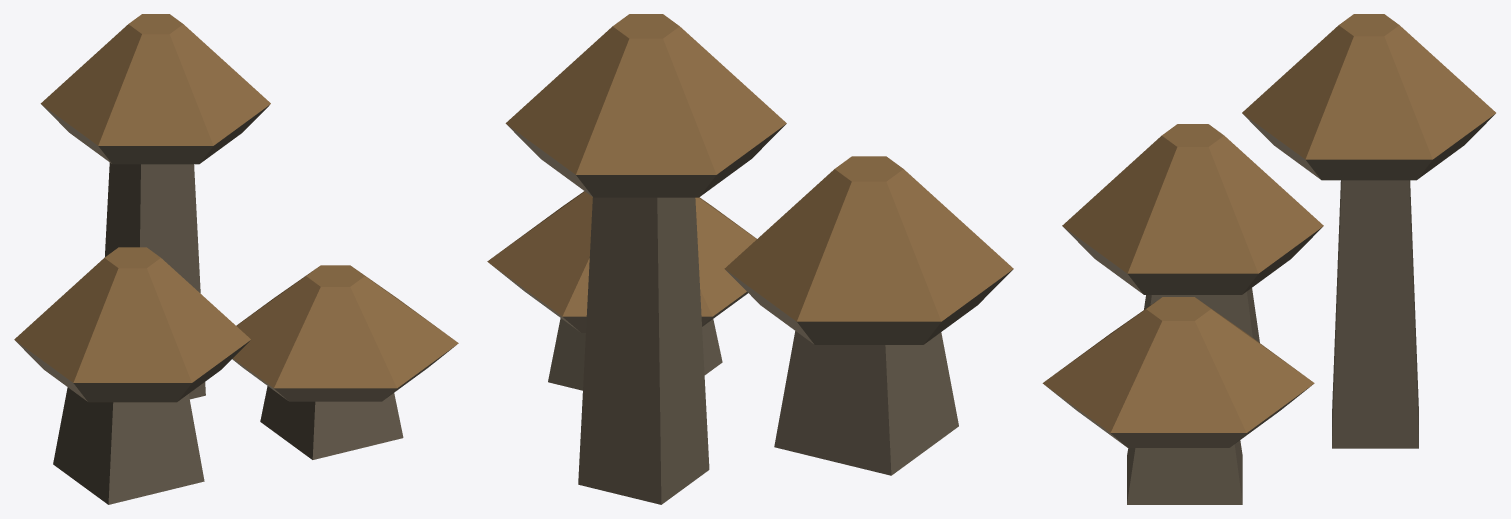
File: mushroom_tan_group.glb
The picture shows the model from 3 angles, left to right: view 1: azimuth 30°, elevation 25°; view 2: azimuth 150°, elevation 25°; view 3: azimuth 270°, elevation 25°; orthographic projection. The views are drawn at different scales.
Visible parts, largest first — view 1: mushroom_tanGroup; view 2: mushroom_tanGroup; view 3: mushroom_tanGroup.
Boxes of the visible parts, x1,y1,x2,y2 form: mushroom_tanGroup: (14,14,458,504); mushroom_tanGroup: (487,14,1013,504); mushroom_tanGroup: (1042,14,1495,504).
Size of the model in its own units: 0.2696 by 0.2505 by 0.2542.
